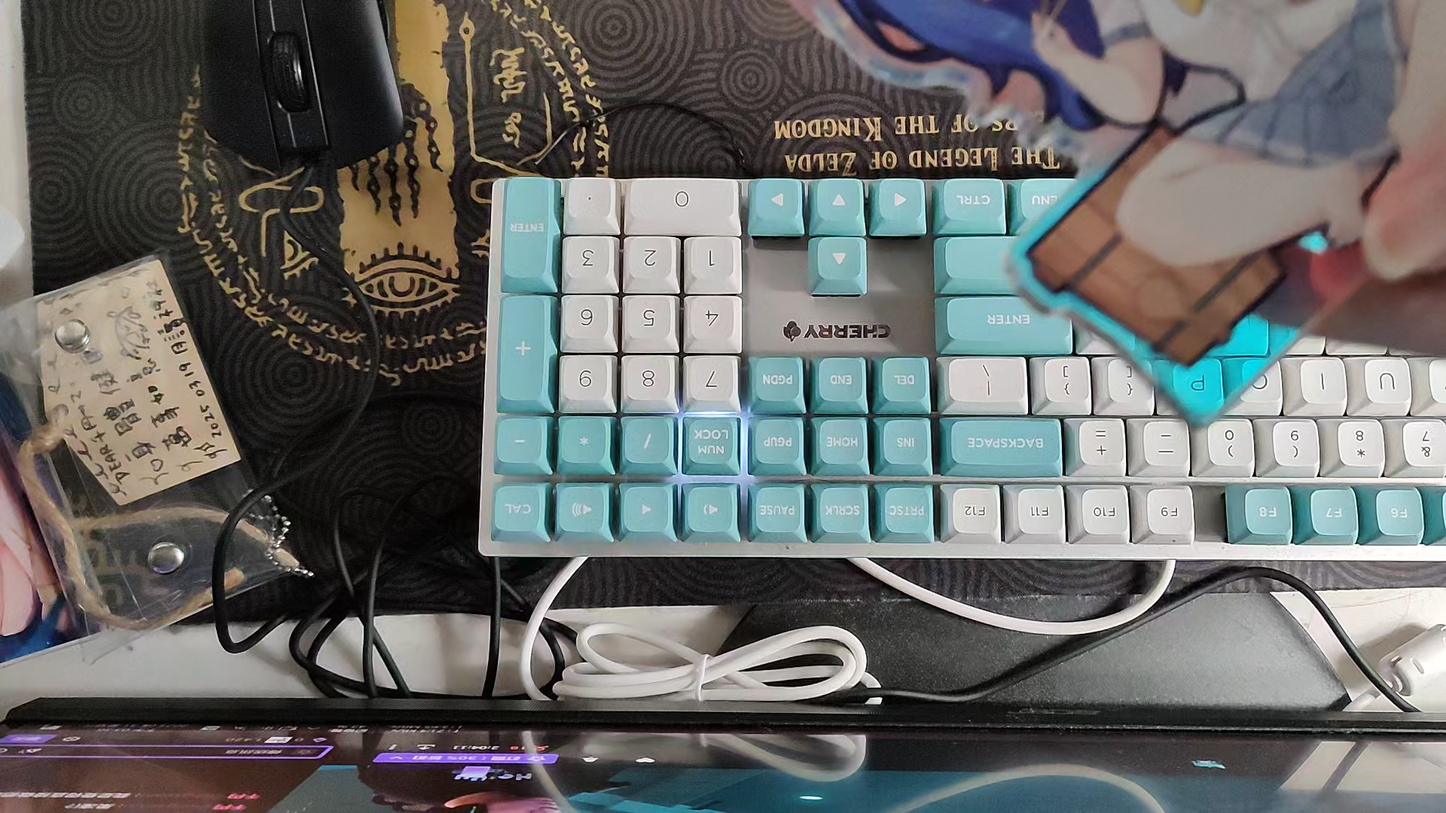Yanami-anna: (775, 0, 1446, 433)
